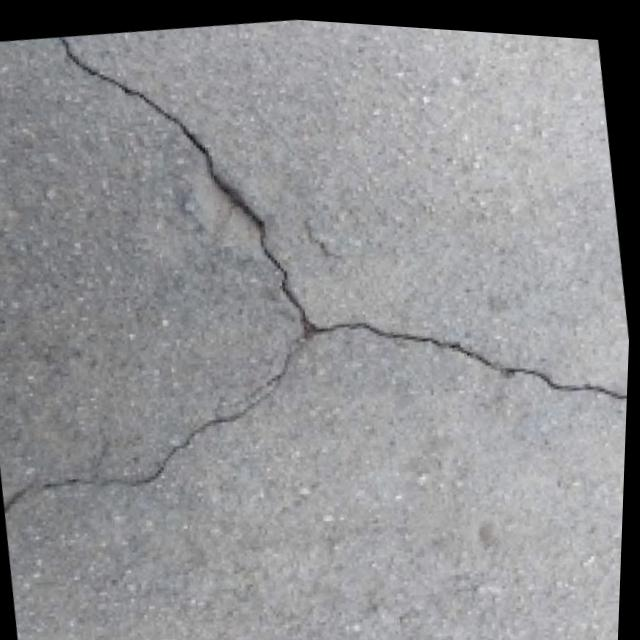Crack: (0, 0, 640, 562)
